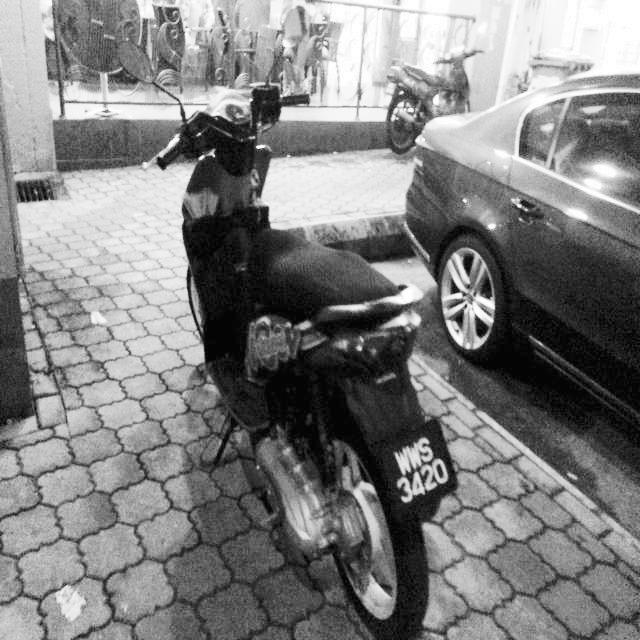Car: (395, 69, 640, 436)
Motorcycle: (115, 22, 460, 640), (365, 42, 483, 163)
